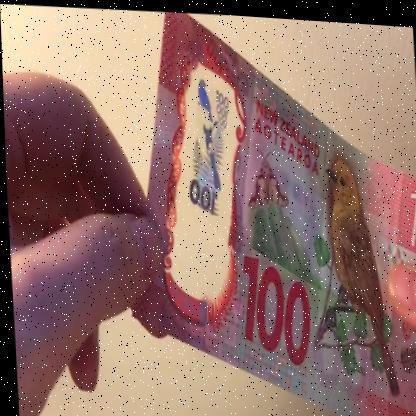100B: (180, 74, 239, 226)
